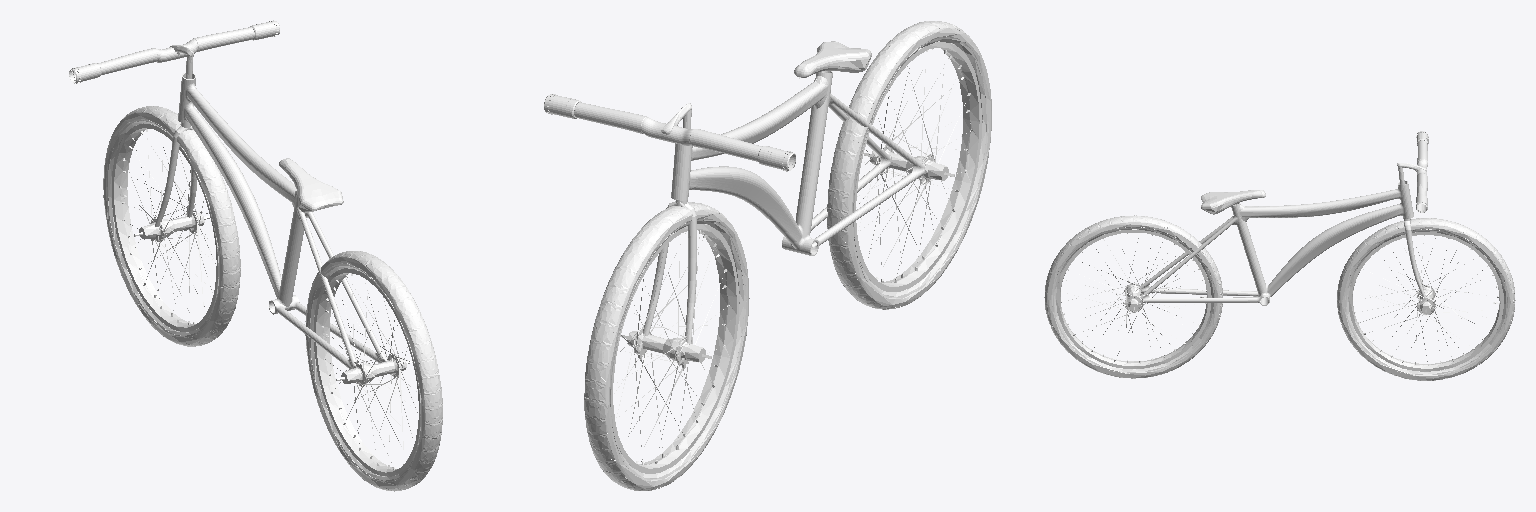
URDF robot description (bicycle):
<?xml version="1.0"?>
<robot name='bicycle'>

    <!--########## link ##########-->
    <!--<link name="base">
    <visual>
      <geometry>
        <box size="30 0.03 0.03"/>
      </geometry>
      <origin xyz="0 0 0"/>
      <material name="green">
        <color rgba="0 0.8 .8 1"/>
      </material>
    </visual>
    <inertial>
      <mass value="0"/>
      <inertia ixx="1.0" ixy="0.0" ixz="0.0" iyy="1.0" iyz="0.0" izz="1.0"/>
    </inertial>
  </link>-->

    <link name='main_frame'>
        <inertial>
            <mass value="20"/>
            <inertia ixx="10" ixy="0.0" ixz="0.0" iyy="2" iyz="0.0" izz="11"/>
            <origin xyz="0 0.53 0.37" rpy="0 0 0"/>
        </inertial>
        <visual name='visual'>
            <origin xyz="0 0.53 0.37" rpy="0 0 0"/>
            <geometry>
                <mesh filename="meshes/main_frame_centered.stl" scale="0.17 0.17 0.17"/>
            </geometry>
            <material name="black">
                <color rgba="1.0 1.0 1.0 1"/>
            </material>
        </visual>
        <collision>
            <origin xyz="0 0.53 0.37" rpy="0 0 0"/>
            <geometry>
                <mesh filename="meshes/main_frame_centered.stl" scale="0.17 0.17 0.17"/>
            </geometry>
            <surface>
                <friction>
                    <ode>
                        <mu>1</mu>
                        <mu2>1</mu2>
                        <fdir1>0 0 0</fdir1>
                        <slip1>0</slip1>
                        <slip2>0</slip2>
                    </ode>
                    <torsional>
                        <coefficient>1</coefficient>
                        <patch_radius>0</patch_radius>
                        <surface_radius>0</surface_radius>
                        <use_patch_radius>1</use_patch_radius>
                        <ode>
                            <slip>0</slip>
                        </ode>
                    </torsional>
                </friction>
                <bounce>
                    <restitution_coefficient>0</restitution_coefficient>
                    <threshold>1e+06</threshold>
                </bounce>
                <contact>
                    <collide_without_contact>0</collide_without_contact>
                    <collide_without_contact_bitmask>1</collide_without_contact_bitmask>
                    <collide_bitmask>1</collide_bitmask>
                    <ode>
                        <soft_cfm>0</soft_cfm>
                        <soft_erp>0.2</soft_erp>
                        <kp>1e+13</kp>
                        <kd>1</kd>
                        <max_vel>0.01</max_vel>
                        <min_depth>0</min_depth>
                    </ode>
                    <bullet>
                        <split_impulse>1</split_impulse>
                        <split_impulse_penetration_threshold>-0.01</split_impulse_penetration_threshold>
                        <soft_cfm>0</soft_cfm>
                        <soft_erp>0.2</soft_erp>
                        <kp>1e+13</kp>
                        <kd>1</kd>
                    </bullet>
                </contact>
            </surface>
        </collision>
    </link>

    <link name='saddle'>
        <inertial>
            <mass value="0.2"/>
            <inertia ixx="0.16667" ixy="0.0" ixz="0.0" iyy="0.16667" iyz="0.0" izz="0.16667"/>
        </inertial>
        <visual name='visual'>
            <origin xyz="0 0 0" rpy="0 0 0"/>
            <geometry>
                <mesh filename="meshes/saddle_centered.stl" scale="0.1 0.1 0.1"/>
            </geometry>
            <material name="black">
                <color rgba="1.0 1.0 1.0 1"/>
            </material>
        </visual>
        <collision>
            <origin xyz="0 0 0" rpy="0 0 0"/>
            <geometry>
                <mesh filename="meshes/saddle_centered.stl" scale="0.1 0.1 0.1"/>
            </geometry>
            <surface>
                <friction>
                    <ode>
                        <mu>1</mu>
                        <mu2>1</mu2>
                        <fdir1>0 0 0</fdir1>
                        <slip1>0</slip1>
                        <slip2>0</slip2>
                    </ode>
                    <torsional>
                        <coefficient>1</coefficient>
                        <patch_radius>0</patch_radius>
                        <surface_radius>0</surface_radius>
                        <use_patch_radius>1</use_patch_radius>
                        <ode>
                            <slip>0</slip>
                        </ode>
                    </torsional>
                </friction>
                <bounce>
                    <restitution_coefficient>0</restitution_coefficient>
                    <threshold>1e+06</threshold>
                </bounce>
                <contact>
                    <collide_without_contact>0</collide_without_contact>
                    <collide_without_contact_bitmask>1</collide_without_contact_bitmask>
                    <collide_bitmask>1</collide_bitmask>
                    <ode>
                        <soft_cfm>0</soft_cfm>
                        <soft_erp>0.2</soft_erp>
                        <kp>1e+13</kp>
                        <kd>1</kd>
                        <max_vel>0.01</max_vel>
                        <min_depth>0</min_depth>
                    </ode>
                    <bullet>
                        <split_impulse>1</split_impulse>
                        <split_impulse_penetration_threshold>-0.01</split_impulse_penetration_threshold>
                        <soft_cfm>0</soft_cfm>
                        <soft_erp>0.2</soft_erp>
                        <kp>1e+13</kp>
                        <kd>1</kd>
                    </bullet>
                </contact>
            </surface>
        </collision>
    </link>

    <link name='handlebar'>
        <inertial>
            <mass value="1"/>
            <inertia ixx="0.06" ixy="0.0" ixz="0.0" iyy="0.06" iyz="0.0" izz="0.06"/>
            <origin xyz="0 0 0" rpy="0 0 0"/>
        </inertial>
        <visual name='visual'>
            <origin xyz="0 0 0" rpy="0 0 0"/>
            <geometry>
                <mesh filename="meshes/handlebar_centered.stl" scale="0.2 0.2 0.2"/>
            </geometry>
            <material name="black">
                <color rgba="1.0 1.0 1.0 1"/>
            </material>
        </visual>
        <collision>
            <origin xyz="0 0 0" rpy="0 0 0"/>
            <geometry>
                <mesh filename="meshes/handlebar_centered.stl" scale="0.2 0.2 0.2"/>
            </geometry>
            <surface>
                <friction>
                    <ode>
                        <mu>1</mu>
                        <mu2>1</mu2>
                        <fdir1>0 0 0</fdir1>
                        <slip1>0</slip1>
                        <slip2>0</slip2>
                    </ode>
                    <torsional>
                        <coefficient>1</coefficient>
                        <patch_radius>0</patch_radius>
                        <surface_radius>0</surface_radius>
                        <use_patch_radius>1</use_patch_radius>
                        <ode>
                            <slip>0</slip>
                        </ode>
                    </torsional>
                </friction>
                <bounce>
                    <restitution_coefficient>0</restitution_coefficient>
                    <threshold>1e+06</threshold>
                </bounce>
                <contact>
                    <collide_without_contact>0</collide_without_contact>
                    <collide_without_contact_bitmask>1</collide_without_contact_bitmask>
                    <collide_bitmask>1</collide_bitmask>
                    <ode>
                        <soft_cfm>0</soft_cfm>
                        <soft_erp>0.2</soft_erp>
                        <kp>1e+13</kp>
                        <kd>1</kd>
                        <max_vel>0.01</max_vel>
                        <min_depth>0</min_depth>
                    </ode>
                    <bullet>
                        <split_impulse>1</split_impulse>
                        <split_impulse_penetration_threshold>-0.01</split_impulse_penetration_threshold>
                        <soft_cfm>0</soft_cfm>
                        <soft_erp>0.2</soft_erp>
                        <kp>1e+13</kp>
                        <kd>1</kd>
                    </bullet>
                </contact>
            </surface>
        </collision>
    </link>

    <link name='link_handle'>
        <inertial>
            <mass value="1"/>
            <inertia ixx="0.06" ixy="0.0" ixz="0.0" iyy="0.06" iyz="0.0" izz="0.06"/>
            <origin xyz="0 0 0" rpy="0 0 0"/>
        </inertial>
        <visual name='visual'>
            <origin xyz="0 0 0" rpy="0 0 0"/>
            <geometry>
                <mesh filename="meshes/link_handle_centered.stl" scale="0.1 0.1 0.1"/>
            </geometry>
            <material name="black">
                <color rgba="1.0 1.0 1.0 1"/>
            </material>
        </visual>
        <collision>
            <origin xyz="0 0 0" rpy="0 0 0"/>
            <geometry>
                <mesh filename="meshes/link_handle_centered.stl" scale="0.1 0.1 0.1"/>
            </geometry>
            <surface>
                <friction>
                    <ode>
                        <mu>1</mu>
                        <mu2>1</mu2>
                        <fdir1>0 0 0</fdir1>
                        <slip1>0</slip1>
                        <slip2>0</slip2>
                    </ode>
                    <torsional>
                        <coefficient>1</coefficient>
                        <patch_radius>0</patch_radius>
                        <surface_radius>0</surface_radius>
                        <use_patch_radius>1</use_patch_radius>
                        <ode>
                            <slip>0</slip>
                        </ode>
                    </torsional>
                </friction>
                <bounce>
                    <restitution_coefficient>0</restitution_coefficient>
                    <threshold>1e+06</threshold>
                </bounce>
                <contact>
                    <collide_without_contact>0</collide_without_contact>
                    <collide_without_contact_bitmask>1</collide_without_contact_bitmask>
                    <collide_bitmask>1</collide_bitmask>
                    <ode>
                        <soft_cfm>0</soft_cfm>
                        <soft_erp>0.2</soft_erp>
                        <kp>1e+13</kp>
                        <kd>1</kd>
                        <max_vel>0.01</max_vel>
                        <min_depth>0</min_depth>
                    </ode>
                    <bullet>
                        <split_impulse>1</split_impulse>
                        <split_impulse_penetration_threshold>-0.01</split_impulse_penetration_threshold>
                        <soft_cfm>0</soft_cfm>
                        <soft_erp>0.2</soft_erp>
                        <kp>1e+13</kp>
                        <kd>1</kd>
                    </bullet>
                </contact>
            </surface>
        </collision>
    </link>

    <link name='link_wheel'>
        <inertial>
            <mass value="3"/>
            <inertia ixx="0.06" ixy="0.0" ixz="0.00756" iyy="0.06" iyz="0.0" izz="0.06"/>
            <origin xyz="0 0 0" rpy="0 0 0"/>
        </inertial>
        <visual name='visual'>
            <origin xyz="0 0 0" rpy="0 0 0"/>
            <geometry>
                <mesh filename="meshes/link_wheel_centered.stl" scale="0.11 0.11 0.11"/>
            </geometry>
            <material name="black">
                <color rgba="1.0 1.0 1.0 1"/>
            </material>
        </visual>
        <collision>
            <origin xyz="0 0 0" rpy="0 0 0"/>
            <geometry>
                <mesh filename="meshes/link_wheel_centered.stl" scale="0.11 0.11 0.11"/>
            </geometry>
            <surface>
                <friction>
                    <ode>
                        <mu>1</mu>
                        <mu2>1</mu2>
                        <fdir1>0 0 0</fdir1>
                        <slip1>0</slip1>
                        <slip2>0</slip2>
                    </ode>
                    <torsional>
                        <coefficient>1</coefficient>
                        <patch_radius>0</patch_radius>
                        <surface_radius>0</surface_radius>
                        <use_patch_radius>1</use_patch_radius>
                        <ode>
                            <slip>0</slip>
                        </ode>
                    </torsional>
                </friction>
                <bounce>
                    <restitution_coefficient>0</restitution_coefficient>
                    <threshold>1e+06</threshold>
                </bounce>
                <contact>
                    <collide_without_contact>0</collide_without_contact>
                    <collide_without_contact_bitmask>1</collide_without_contact_bitmask>
                    <collide_bitmask>1</collide_bitmask>
                    <ode>
                        <soft_cfm>0</soft_cfm>
                        <soft_erp>0.2</soft_erp>
                        <kp>1e+13</kp>
                        <kd>1</kd>
                        <max_vel>0.01</max_vel>
                        <min_depth>0</min_depth>
                    </ode>
                    <bullet>
                        <split_impulse>1</split_impulse>
                        <split_impulse_penetration_threshold>-0.01</split_impulse_penetration_threshold>
                        <soft_cfm>0</soft_cfm>
                        <soft_erp>0.2</soft_erp>
                        <kp>1e+13</kp>
                        <kd>1</kd>
                    </bullet>
                </contact>
            </surface>
        </collision>
    </link>

    <link name='wheel_front'>
        <inertial>
            <mass value="3"/>
            <inertia ixx="0.1405" ixy="0.0" ixz="0.0" iyy="0.1405" iyz="0.0" izz="0.14"/>
            <origin xyz="0 0 0" rpy="0 0 0"/>
        </inertial>
        <visual name='visual'>
            <origin xyz="0 0 0" rpy="0 0 0"/>
            <geometry>
                <mesh filename="meshes/wheel_full_centered.stl" scale="0.31 0.11 0.11"/>
                <!--<cylinder length="0.1" radius="0.37"/>-->
            </geometry>
            <material name="black">
                <color rgba="1.0 1.0 1.0 1"/>
            </material>
        </visual>
        <collision>
            <origin xyz="0 0 0" rpy="0 0 0"/>
            <geometry>
                <mesh filename="meshes/wheel_full_centered.stl" scale="0.31 0.11 0.11"/>
                <!--<cylinder length="0.1" radius="0.37"/>-->
            </geometry>
            <surface>
                <friction>
                    <ode>
                        <mu>1</mu>
                        <mu2>1</mu2>
                        <fdir1>0 0 0</fdir1>
                        <slip1>0</slip1>
                        <slip2>0</slip2>
                    </ode>
                    <torsional>
                        <coefficient>1</coefficient>
                        <patch_radius>0</patch_radius>
                        <surface_radius>0</surface_radius>
                        <use_patch_radius>1</use_patch_radius>
                        <ode>
                            <slip>0</slip>
                        </ode>
                    </torsional>
                </friction>
                <bounce>
                    <restitution_coefficient>0</restitution_coefficient>
                    <threshold>1e+06</threshold>
                </bounce>
                <contact>
                    <collide_without_contact>0</collide_without_contact>
                    <collide_without_contact_bitmask>1</collide_without_contact_bitmask>
                    <collide_bitmask>1</collide_bitmask>
                    <ode>
                        <soft_cfm>0</soft_cfm>
                        <soft_erp>0.2</soft_erp>
                        <kp>1e+13</kp>
                        <kd>1</kd>
                        <max_vel>0.01</max_vel>
                        <min_depth>0</min_depth>
                    </ode>
                    <bullet>
                        <split_impulse>1</split_impulse>
                        <split_impulse_penetration_threshold>-0.01</split_impulse_penetration_threshold>
                        <soft_cfm>0</soft_cfm>
                        <soft_erp>0.2</soft_erp>
                        <kp>1e+13</kp>
                        <kd>1</kd>
                    </bullet>
                </contact>
            </surface>
        </collision>
    </link>

    <link name='wheel_rear'>
        <inertial>
            <mass value="7"/>
            <inertia ixx="0.1405" ixy="0.0" ixz="0.0" iyy="0.1405" iyz="0.0" izz="0.14"/>
            <origin xyz="0 0 0" rpy="0 0 0"/>
        </inertial>
        <visual name='visual'>
            <origin xyz="0 0 0" rpy="0 0 0"/>
            <geometry>
                <mesh filename="meshes/wheel_full_centered.stl" scale="0.31 0.11 0.11"/>
                <!--<cylinder length="0.1" radius="0.37"/>-->
            </geometry>
            <material name="black">
                <color rgba="1.0 1.0 1.0 1"/>
            </material>
        </visual>
        <collision>
            <origin xyz="0 0 0" rpy="0 0 0"/>
            <geometry>
                <mesh filename="meshes/wheel_full_centered.stl" scale="0.31 0.11 0.11"/>
                <!--<cylinder length="0.1" radius="0.37"/>-->
            </geometry>
            <surface>
                <friction>
                    <ode>
                        <mu>1</mu>
                        <mu2>1</mu2>
                        <fdir1>0 0 0</fdir1>
                        <slip1>0</slip1>
                        <slip2>0</slip2>
                    </ode>
                    <torsional>
                        <coefficient>1</coefficient>
                        <patch_radius>0</patch_radius>
                        <surface_radius>0</surface_radius>
                        <use_patch_radius>1</use_patch_radius>
                        <ode>
                            <slip>0</slip>
                        </ode>
                    </torsional>
                </friction>
                <bounce>
                    <restitution_coefficient>0</restitution_coefficient>
                    <threshold>1e+06</threshold>
                </bounce>
                <contact>
                    <collide_without_contact>0</collide_without_contact>
                    <collide_without_contact_bitmask>1</collide_without_contact_bitmask>
                    <collide_bitmask>1</collide_bitmask>
                    <ode>
                        <soft_cfm>0</soft_cfm>
                        <soft_erp>0.2</soft_erp>
                        <kp>1e+13</kp>
                        <kd>1</kd>
                        <max_vel>0.01</max_vel>
                        <min_depth>0</min_depth>
                    </ode>
                    <bullet>
                        <split_impulse>1</split_impulse>
                        <split_impulse_penetration_threshold>-0.01</split_impulse_penetration_threshold>
                        <soft_cfm>0</soft_cfm>
                        <soft_erp>0.2</soft_erp>
                        <kp>1e+13</kp>
                        <kd>1</kd>
                    </bullet>
                </contact>
            </surface>
        </collision>
    </link>

    <!--########## joint ##########-->
    <joint name='main_frame_wheel_rear' type='continuous'>
        <parent link="main_frame"/>
        <child link="wheel_rear"/>
        <origin xyz="0 0 0.37" rpy="0 0 0"/>
        <axis xyz="-1 0 0"/>
    </joint>

    <joint name='main_frame_link_handle' type='revolute'>
        <parent link="main_frame"/>
        <child link="link_wheel"/>
        <origin xyz="0 1.10 0.80" rpy="-0.2 0 3.1415"/>
        <axis xyz="0 0 1"/>
        <limit lower="-1.5708" upper="1.5708" effort="-1" velocity="-1"/>
    </joint>

    <joint name='link_wheel_wheel_front' type='continuous'>
        <parent link="link_wheel"/>
        <child link="wheel_front"/>
        <origin xyz="0 0 -0.45" rpy="-0.26 0 3.1415"/>
        <axis xyz="-1 0 0"/>
    </joint>

    <joint name='main_frame_saddle' type='fixed'>
        <parent link="main_frame"/>
        <child link="saddle"/>
        <origin xyz="0 0.4 0.81" rpy="-0.2 0 3.1415"/>
    </joint>

    <joint name='link_handle_handlebar' type='fixed'>
        <parent link="link_handle"/>
        <child link="handlebar"/>
        <origin xyz="0 -0.04 0" rpy="-0.3 0 3.1415"/>
    </joint>

    <joint name='link_handle_link_wheel' type='fixed'>
        <parent link="link_wheel"/>
        <child link="link_handle"/>
        <origin xyz="0 -0.055 0.13" rpy="0.36 0 0"/>
    </joint>

    <!--<joint name='base' type='fixed'>
        <parent link="base"/>
        <child link="main_frame"/>
        <origin xyz="0 0 0" rpy="0 0 0"/>
    </joint>-->
</robot>

--- Render facts (derived) ---
Views: 3 orthographic renders of the robot side by side, from view 1: azimuth 30°, elevation 25°; view 2: azimuth 150°, elevation 25°; view 3: azimuth 270°, elevation 25°.
Model bicycle with 7 links and 6 joints (1 revolute, 2 continuous, 3 fixed), rooted at main_frame, posed all joints at 0.
Visible links, largest first — view 1: wheel_front, wheel_rear, main_frame, handlebar, saddle, link_wheel; view 2: wheel_front, wheel_rear, main_frame, handlebar, link_wheel, saddle; view 3: wheel_front, wheel_rear, main_frame, saddle, handlebar.
Boxes of the visible links, box(x1,y1,x2,y2) form: wheel_front: box(103, 106, 240, 346); wheel_rear: box(305, 251, 442, 491); main_frame: box(178, 73, 387, 369); handlebar: box(69, 20, 279, 83); saddle: box(279, 158, 343, 212); link_wheel: box(150, 120, 196, 241); wheel_front: box(584, 202, 749, 490); wheel_rear: box(827, 21, 991, 309); main_frame: box(671, 71, 925, 255); handlebar: box(544, 94, 795, 171); link_wheel: box(638, 200, 696, 368); saddle: box(794, 41, 871, 78); wheel_front: box(1337, 218, 1515, 380); wheel_rear: box(1044, 215, 1222, 378); main_frame: box(1139, 181, 1413, 305); saddle: box(1201, 190, 1265, 214); handlebar: box(1416, 131, 1428, 212).
Size in the robot's own frame: 0.693 by 1.92 by 0.9752 metres.
Meshes: 6 distinct files referenced, 7 mesh visuals loaded (6 binary STL).